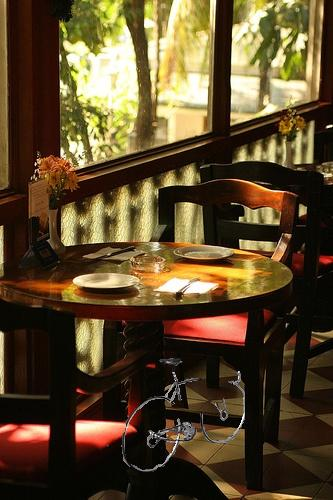tampered: (122, 359, 245, 472)
